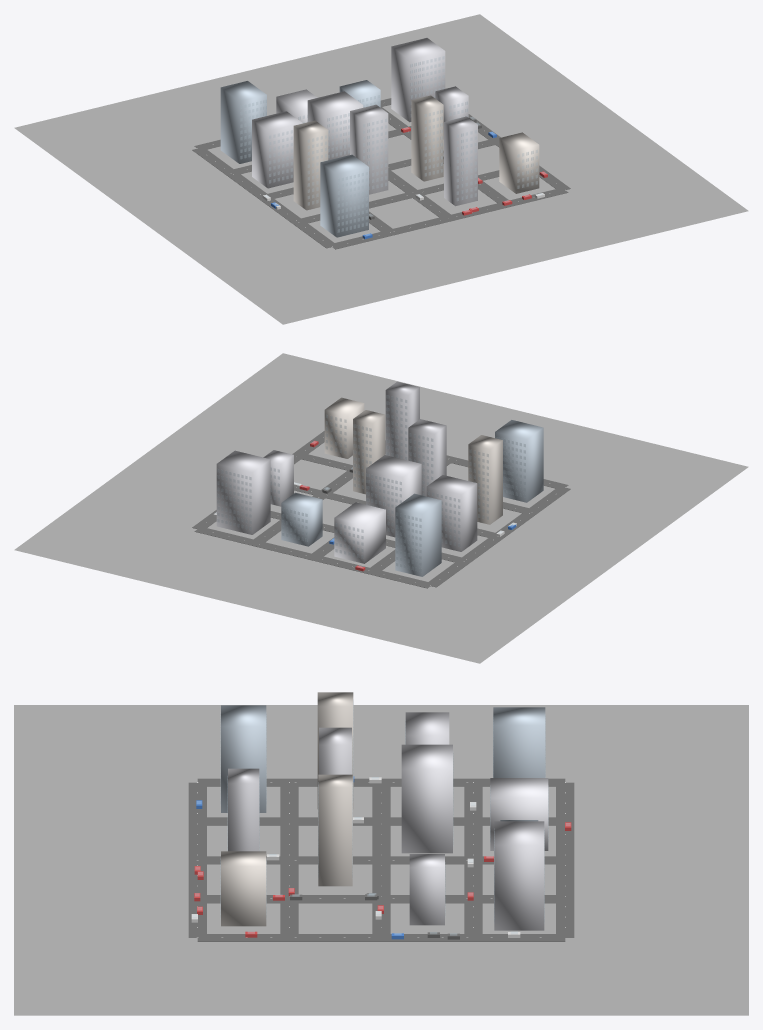
File: test_small.glb
3 renders of one model, top to bottom at view 1: azimuth 30°, elevation 25°; view 2: azimuth 150°, elevation 25°; view 3: azimuth 270°, elevation 25°, orthographic. The views are drawn at different scales.
Parts seen in each view (by area): view 1: Plane, Cube.160, Cube.1434, Cube.416, Cube.545, Cube.1039, Cube.672, Cube.1150, Cube.305, Cube.1322, Cube.805, Cube.016 (+7 smaller); view 2: Plane, Cube.1434, Cube.545, Cube.160, Cube.416, Cube.805, Cube.968, Cube.305, Cube.1039, Cube.672, Cube.1150, Cube.1251 (+8 smaller); view 3: Plane, Cube.805, Cube.1434, Cube.1150, Cube.545, Cube.160, Cube.1322, Cube.128, Cube.032, Cube.096, Cube.968, Cube.064 (+11 smaller).
Part boxes in pixels (x1,y1,x2,y2): Plane: [14, 14, 748, 324]; Cube.160: [320, 154, 368, 237]; Cube.1434: [391, 38, 445, 122]; Cube.416: [252, 111, 302, 188]; Cube.545: [220, 81, 266, 163]; Cube.1039: [444, 116, 477, 206]; Cube.672: [350, 104, 388, 194]; Cube.1150: [411, 95, 443, 181]; Cube.305: [293, 120, 328, 210]; Cube.1322: [499, 132, 539, 193]; Cube.805: [307, 91, 363, 160]; Cube.016: [192, 147, 337, 248]; Plane: [14, 353, 748, 663]; Cube.1434: [216, 450, 270, 534]; Cube.545: [395, 493, 441, 576]; Cube.160: [495, 420, 543, 502]; Cube.416: [426, 475, 477, 551]; Cube.805: [366, 455, 421, 537]; Cube.968: [334, 502, 385, 563]; Cube.305: [468, 435, 502, 524]; Cube.1039: [385, 381, 419, 460]; Cube.672: [408, 419, 446, 496]; Cube.1150: [353, 410, 385, 494]; Cube.1251: [281, 492, 322, 546]; Plane: [14, 705, 748, 1015]; Cube.805: [401, 744, 452, 853]; Cube.1434: [494, 821, 544, 930]; Cube.1150: [318, 774, 352, 886]; Cube.545: [493, 707, 545, 777]; Cube.160: [221, 705, 266, 812]; Cube.1322: [221, 851, 266, 926]; Cube.128: [556, 782, 574, 937]; Cube.032: [280, 783, 298, 937]; Cube.096: [464, 782, 482, 937]; Cube.968: [490, 778, 548, 850]; Cube.064: [372, 782, 390, 937].
Size of the model in its own units: 240 by 37.74 by 240.
